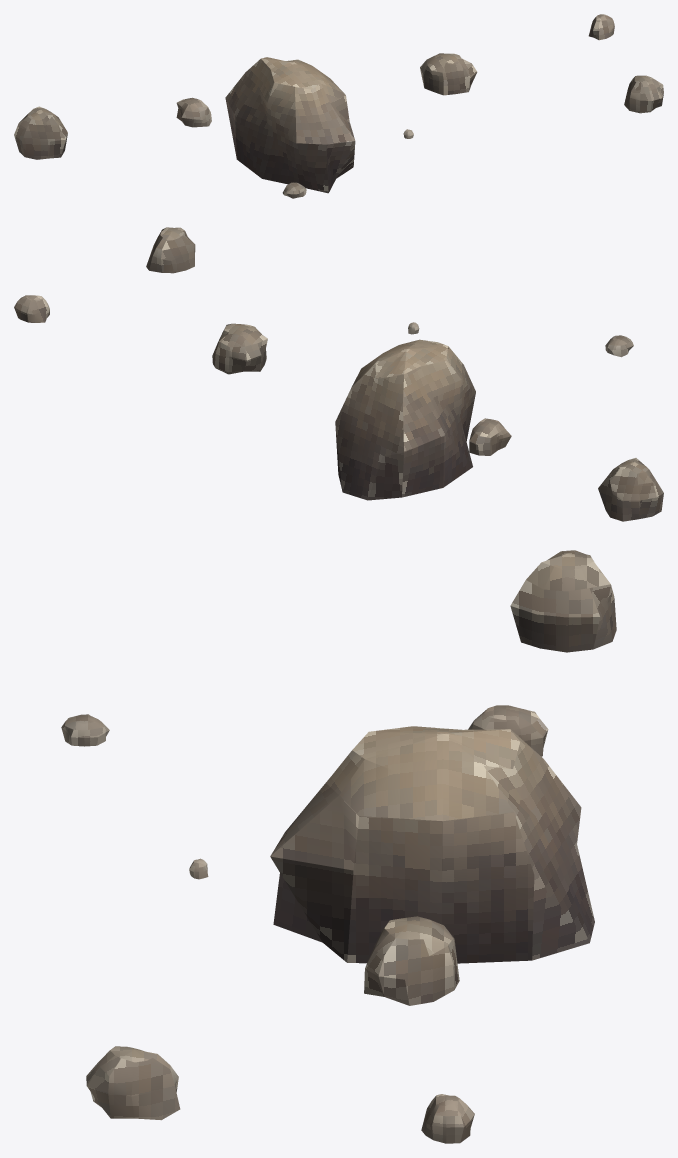
3 renders of one model, top to bottom at view 1: azimuth 30°, elevation 25°; view 2: azimuth 150°, elevation 25°; view 3: azimuth 270°, elevation 25°, orthographic. The views are drawn at different scales.
Visible parts, largest first — view 1: Grit; view 2: Grit; view 3: Grit.
Boxes of the visible parts, box(x1,y1,x2,y2) form: Grit: box(14, 14, 663, 198); Grit: box(14, 227, 663, 521); Grit: box(61, 550, 616, 1143).
Size of the model in its own units: 12.71 by 2.13 by 5.4.
Materials: 1 (1 with a texture image).
